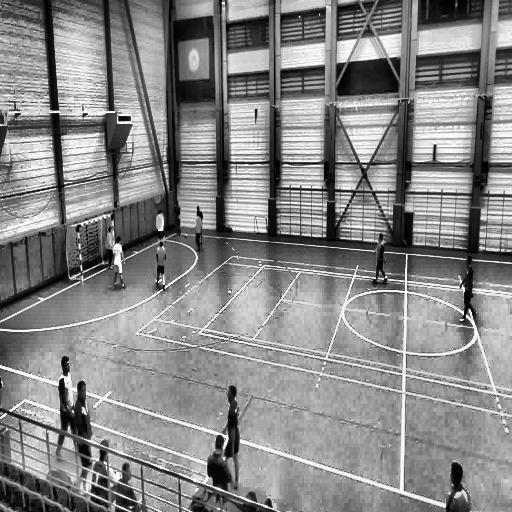ball: (184, 232, 190, 242)
player: (56, 360, 78, 460), (74, 378, 92, 492), (222, 386, 240, 487), (459, 255, 476, 323), (111, 236, 126, 290), (372, 234, 387, 284), (156, 239, 166, 290), (195, 206, 203, 251), (106, 227, 114, 269), (156, 210, 165, 243), (174, 201, 181, 232)
